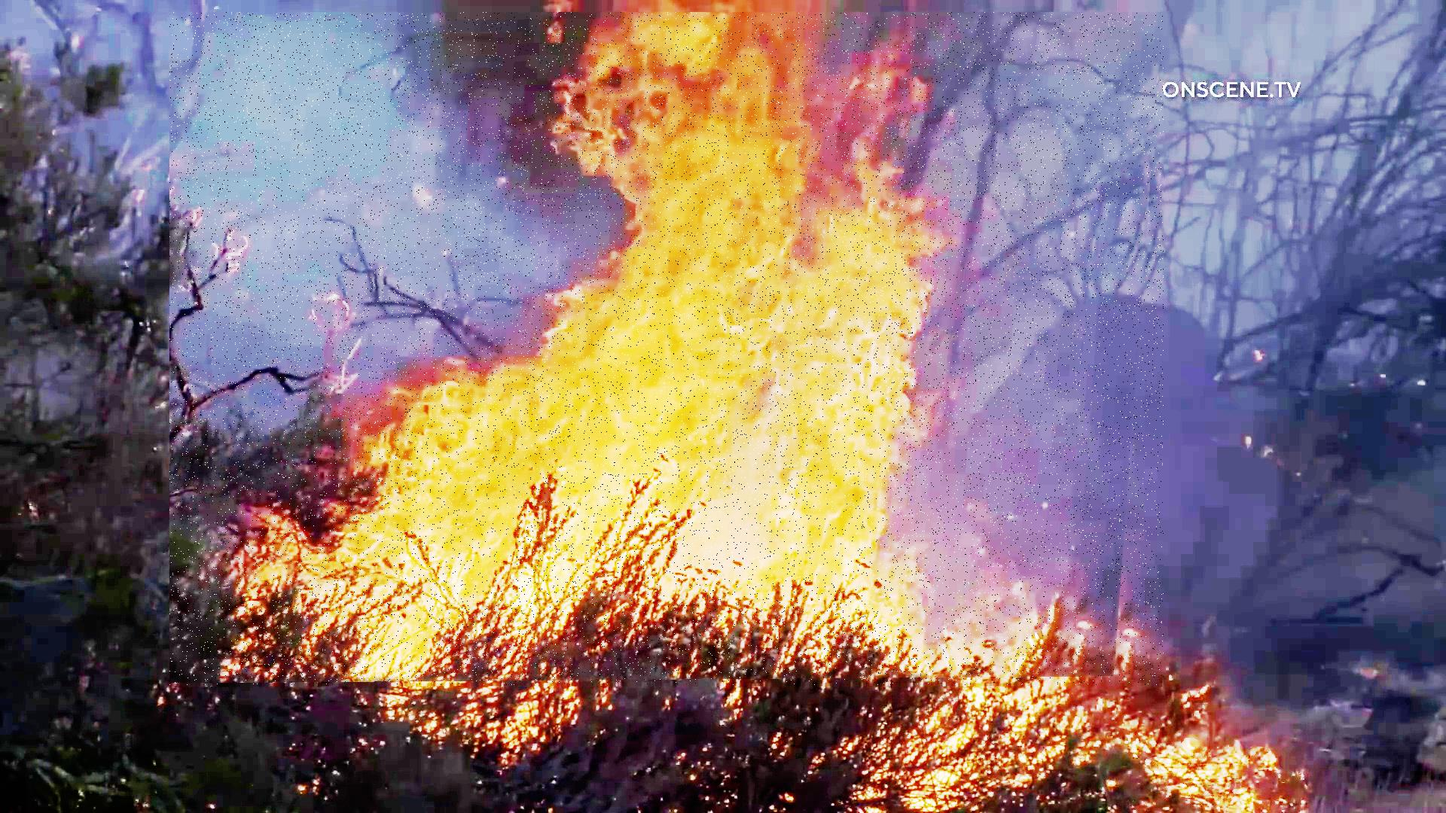fire: (170, 13, 1164, 686)
